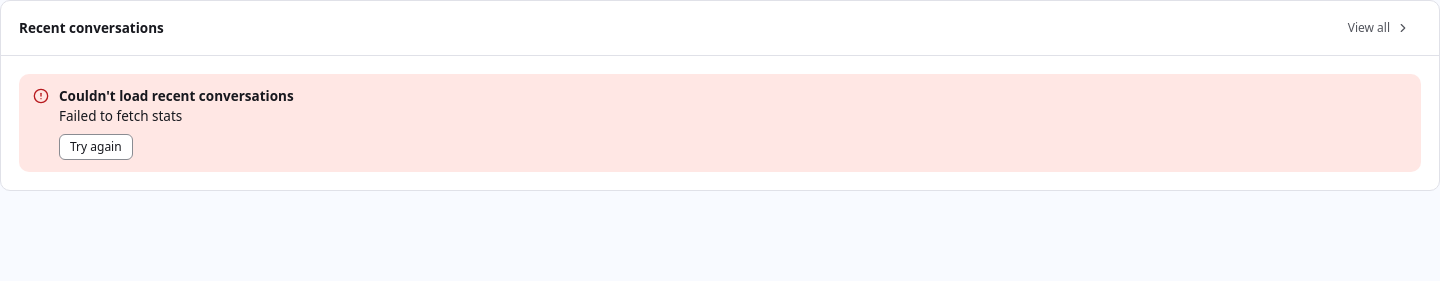
Scenario: tells a failed load apart from no questions yet
Expected: the message shows "Failed to fetch stats", [59,107,182,125]
Expected: the text "No questions yet" is not shown
What coordinates should you click on to do the following:
click the button "Try again"
I would click on:
 (96, 147)
Its box is [59,134,133,160].
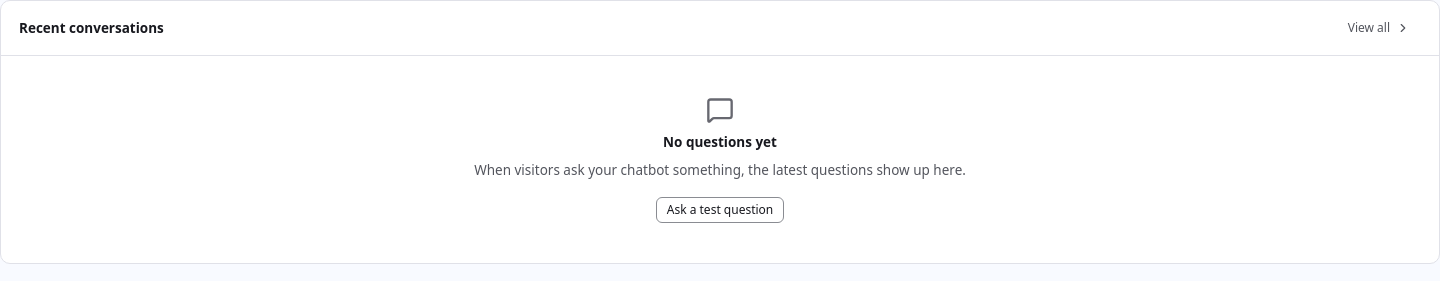
Expected: the heading "No questions yet" is shown, [663,132,777,152]
